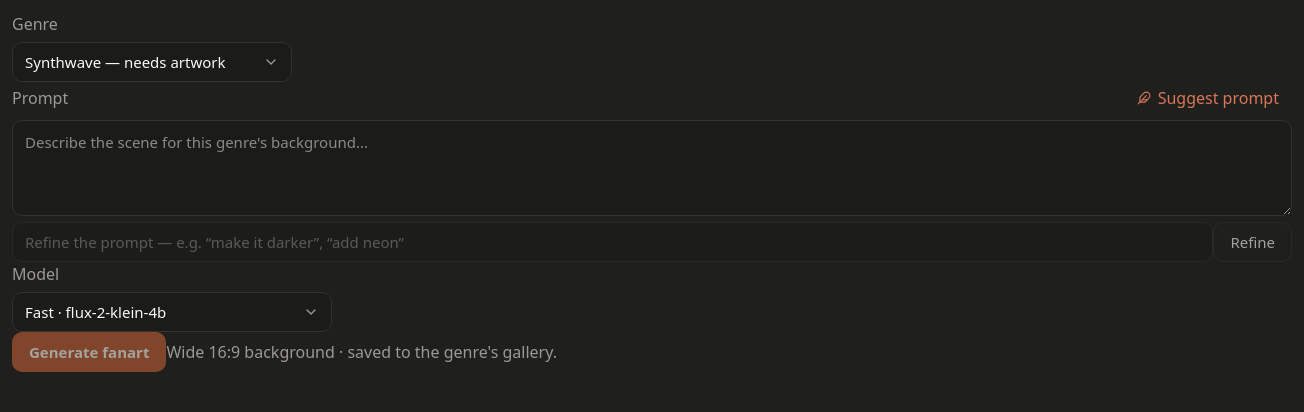
Test case: GenreFanartMode generation › when the job reports failure, then its error is surfaced and no image is shown
The image size is (1304, 412).
Type "neon skyline" into the text box named "Fanart prompt" at coordinates (652, 168), box [12,120,1292,216]
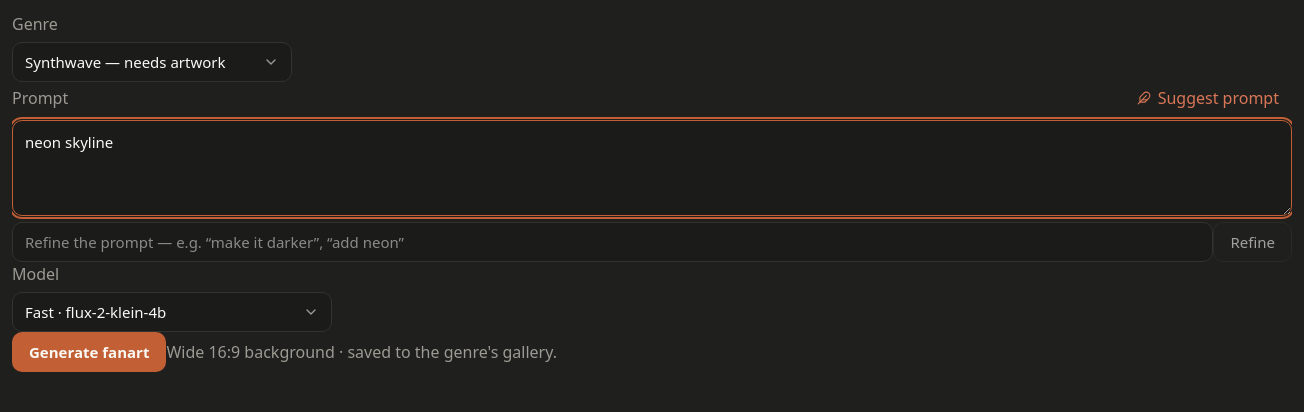
Click the button "Generate fanart" at coordinates (89, 352), box [12,332,166,372]
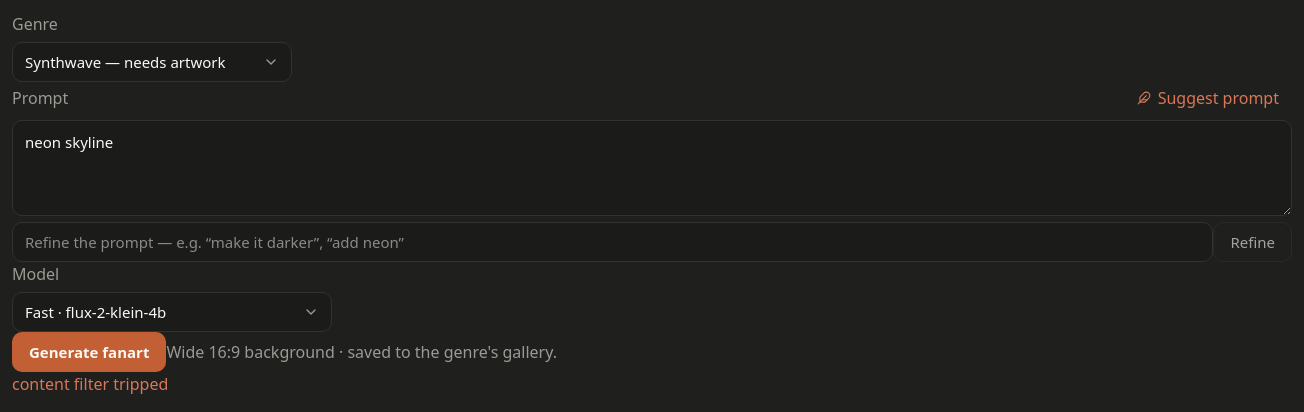
expect the message reads "content filter tripped": met, box [12,373,168,395]
